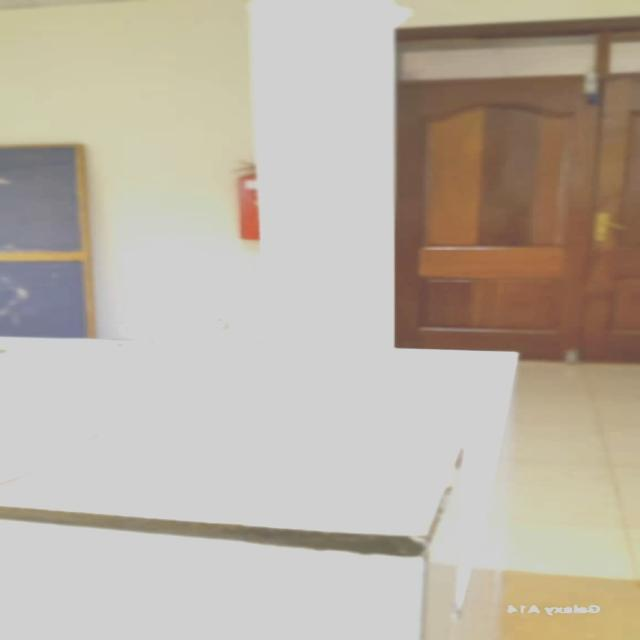Measuring Cylinder: (224, 8, 425, 503)
